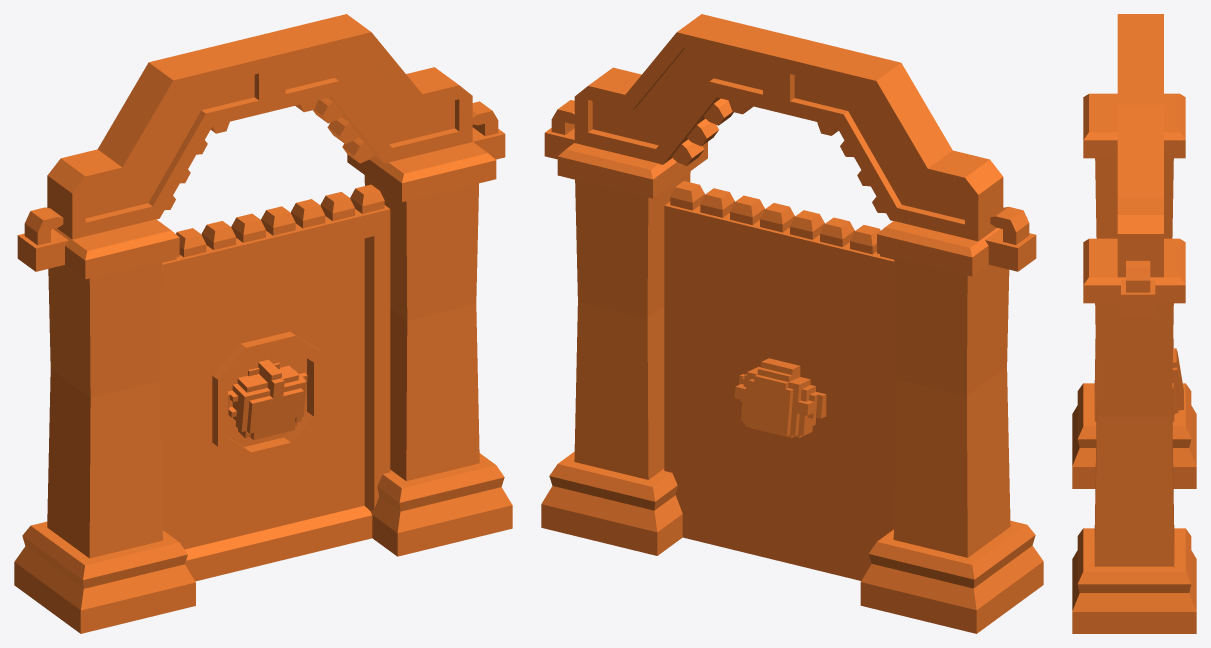
The model's file is door.fbx.
3 views of the same model, side by side, from view 1: azimuth 30°, elevation 25°; view 2: azimuth 150°, elevation 25°; view 3: azimuth 270°, elevation 25° (orthographic). The views are drawn at different scales.
Visible parts, largest first — view 1: TempleArcPillar_A, rrr; view 2: TempleArcPillar_A, rrr; view 3: TempleArcPillar_A, rrr.
Boxes of the visible parts, <box> form: TempleArcPillar_A: <box>14,14,512,633</box>; rrr: <box>159,184,390,581</box>; TempleArcPillar_A: <box>541,14,1043,633</box>; rrr: <box>664,181,897,580</box>; TempleArcPillar_A: <box>1072,14,1196,633</box>; rrr: <box>1172,348,1183,415</box>.
Size of the model in its own units: 359 by 371 by 87.97.
